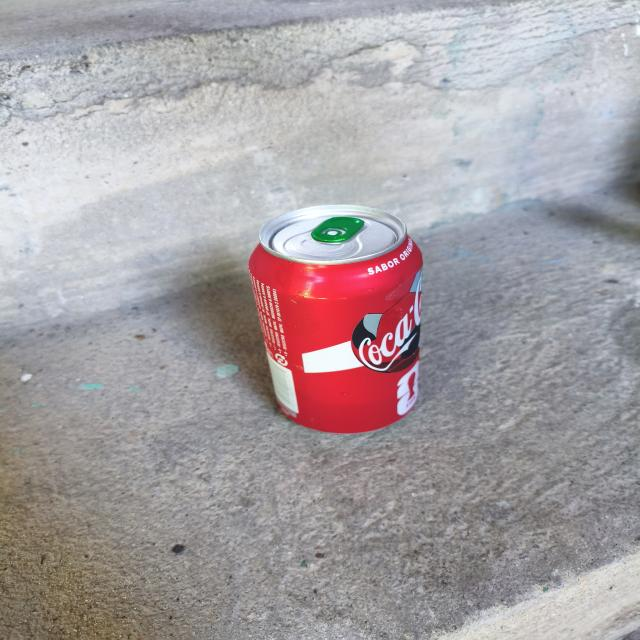Coca Cola: (246, 205, 427, 432)
